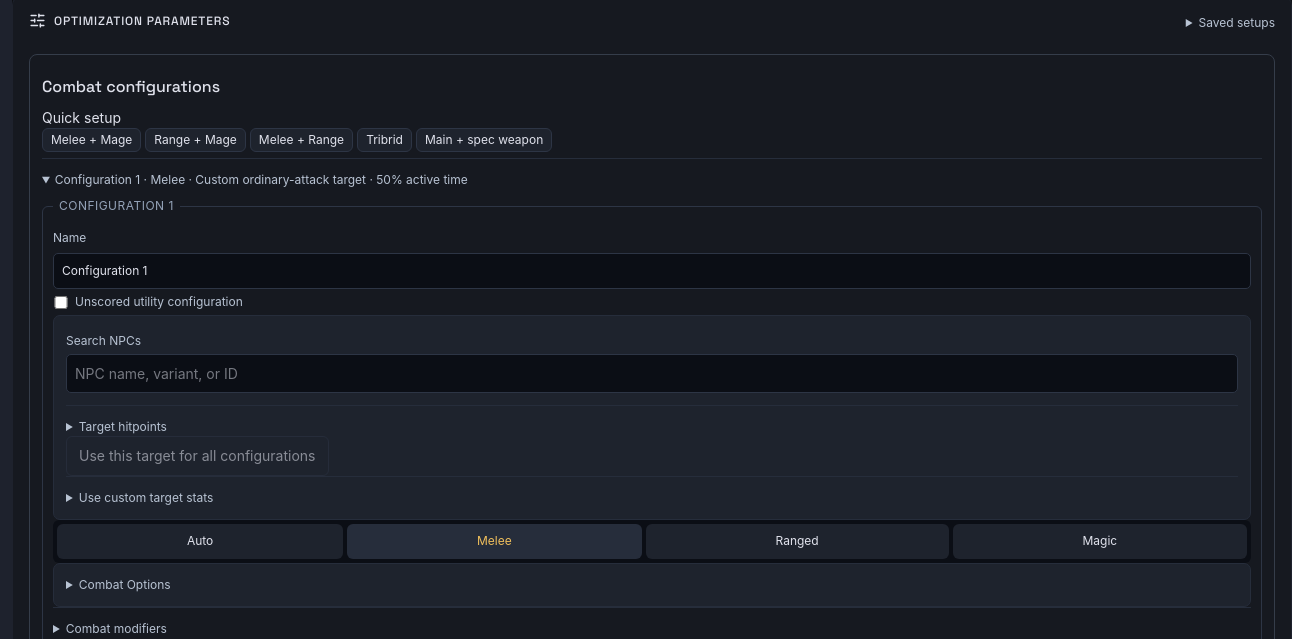
summarizes Multi targets and normalized shares with role-specific errors
Earlier steps of the test are not shown.
Later steps or results of the test are not shown.
Replace the text in the field named "Role target name" with "Armoured target" at (652, 492), box [66,476,1238,507]
(page scrolled)
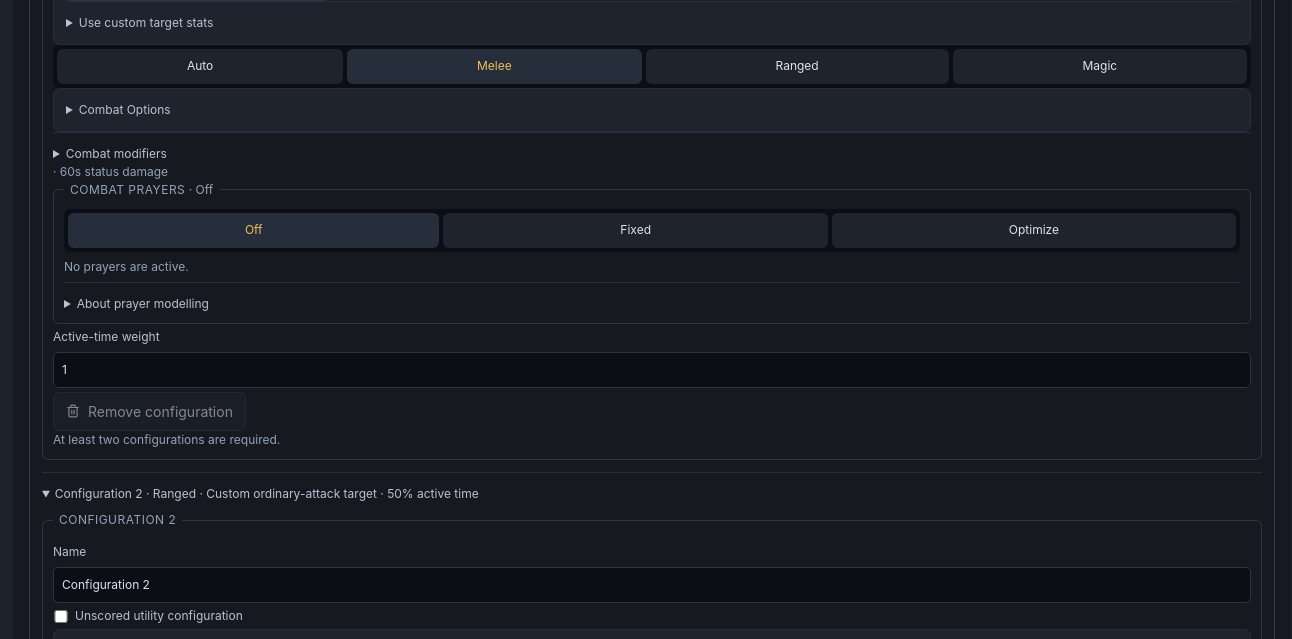
Replace the text in the number field labelled "Active-time weight" with "3" at (652, 370), box [53,352,1251,388]
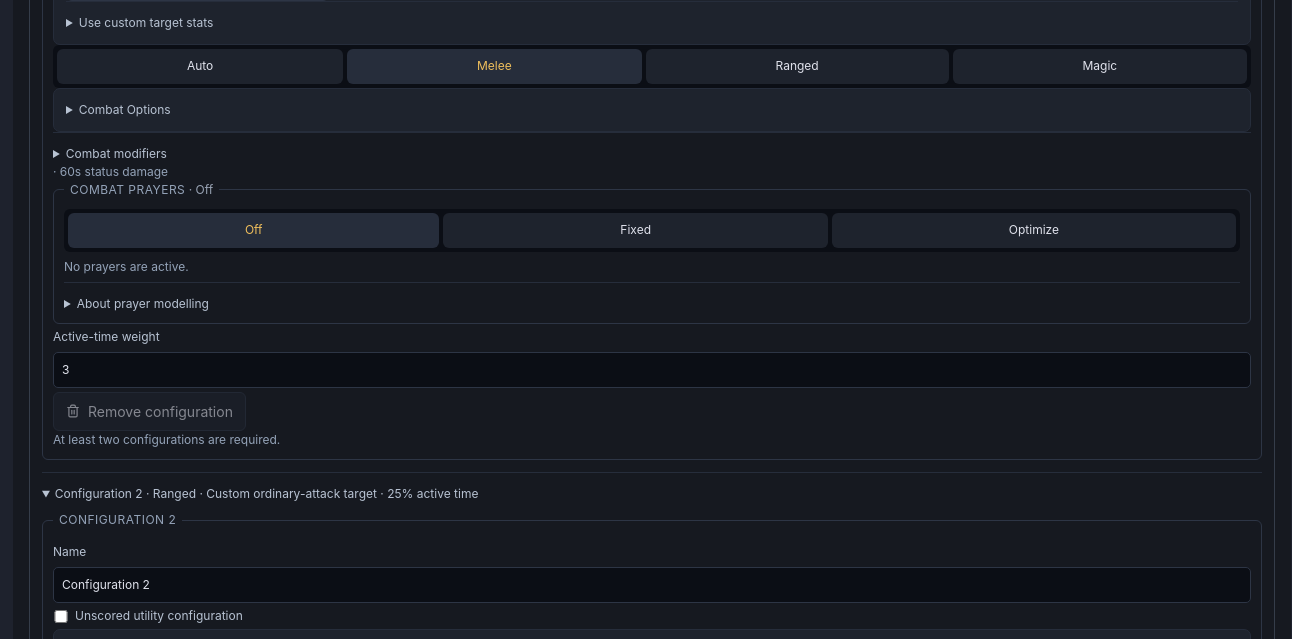
Check: the 6th heading is shown, box [55,486,478,501]
